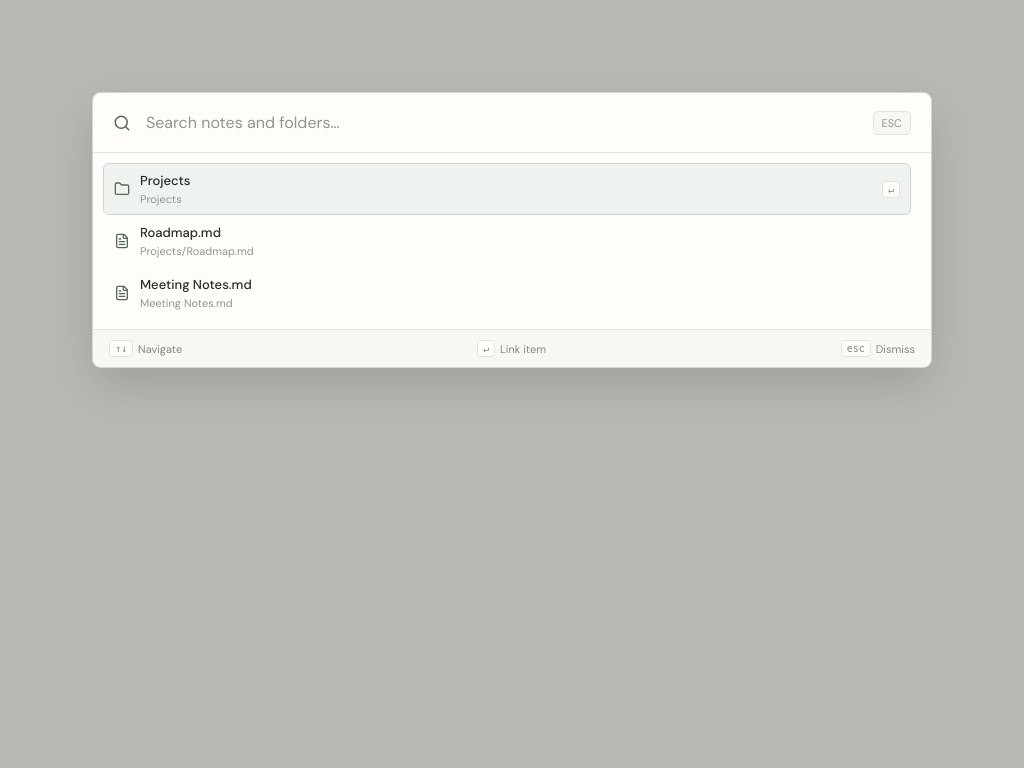
it: WorkspaceLinkPalette › filters workspace links by name and path, ignoring case
In the field labelled "Search notes and folders": (502, 123) top-left (144, 111), bottom-right (860, 134), type "PROJECTS/road"
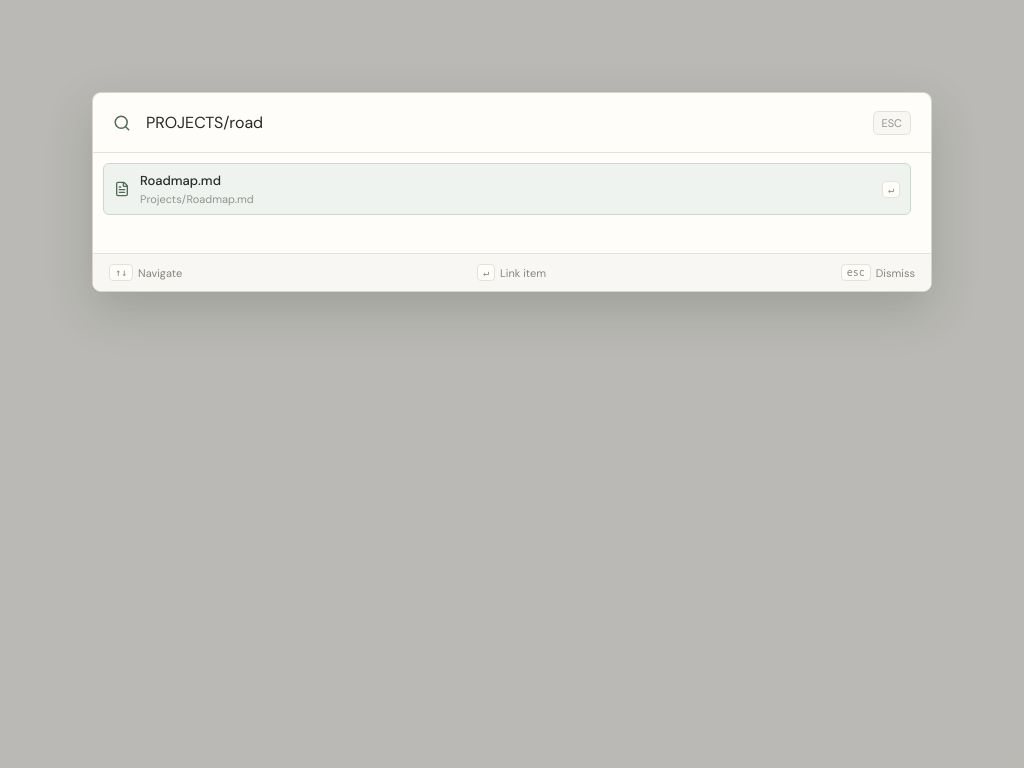
Check: the option "Roadmap.md Projects/Roadmap.md ↵" is shown, box top-left (103, 163), bottom-right (911, 215)
Check: the option "Meeting Notes.md" is gone
